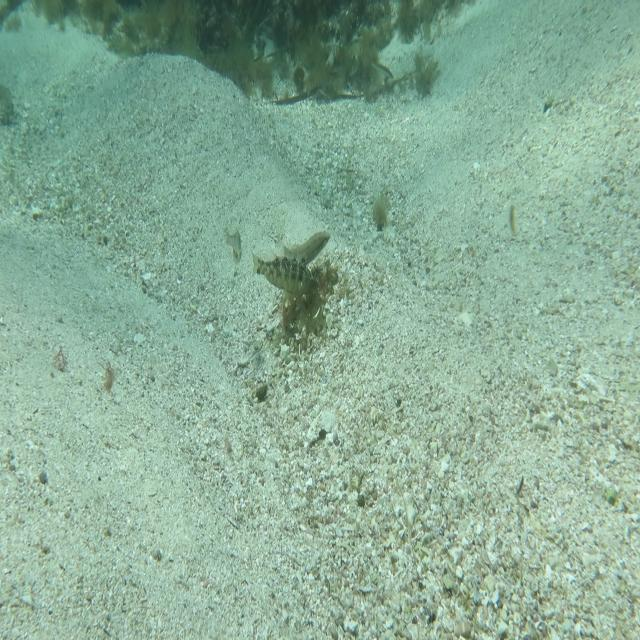NIP_CORE: (248, 248, 322, 298)
female: (272, 229, 333, 267), (222, 224, 243, 268)
nest: (274, 256, 341, 343)
vegetation: (83, 0, 450, 44), (216, 45, 434, 101), (370, 185, 390, 235)
